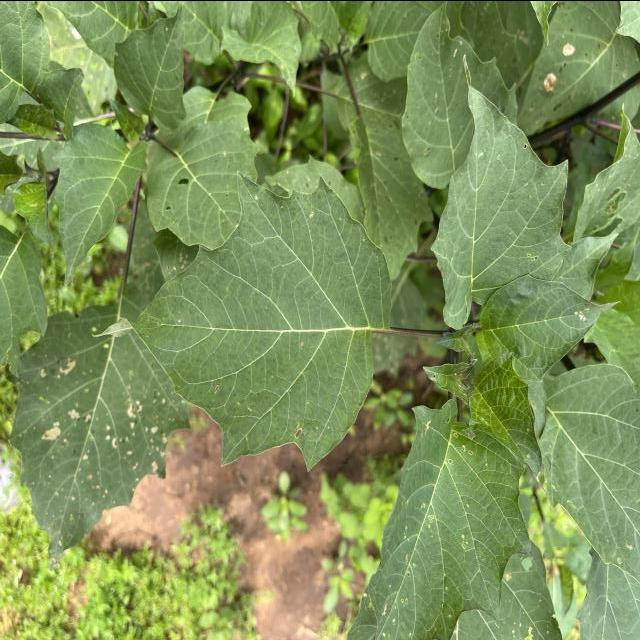Datura metal linn: (92, 166, 396, 474), (368, 402, 540, 640), (429, 50, 574, 331), (48, 119, 151, 289), (475, 272, 625, 380), (467, 348, 552, 501), (110, 0, 192, 132)
